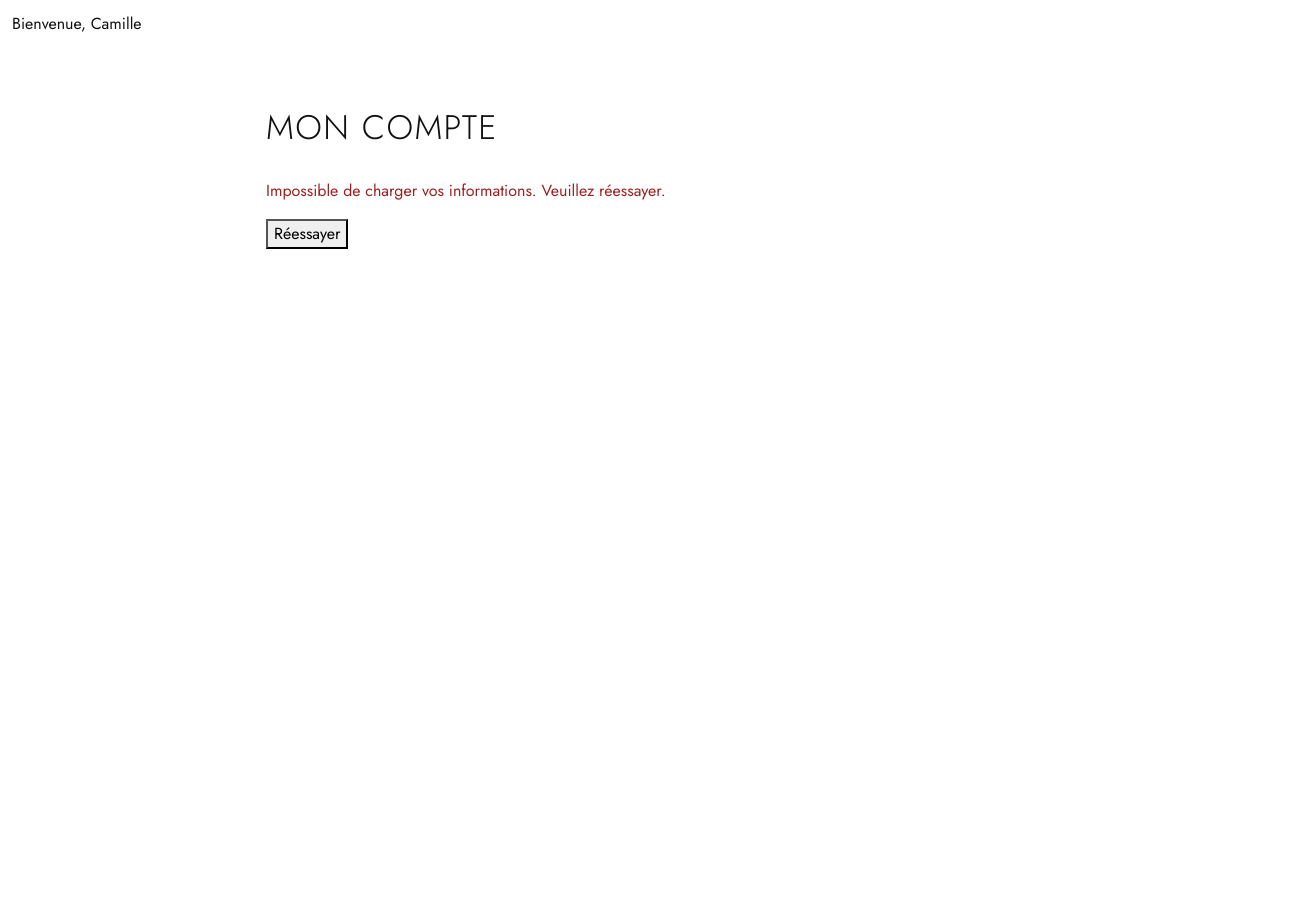
Test: US6 › annonce le chargement et propose de reprendre une lecture échouée
Expected: the message shows "Impossible de charger", [266,179,666,202]
Click the button "Réessayer" at (307, 234), box [266,219,348,249]
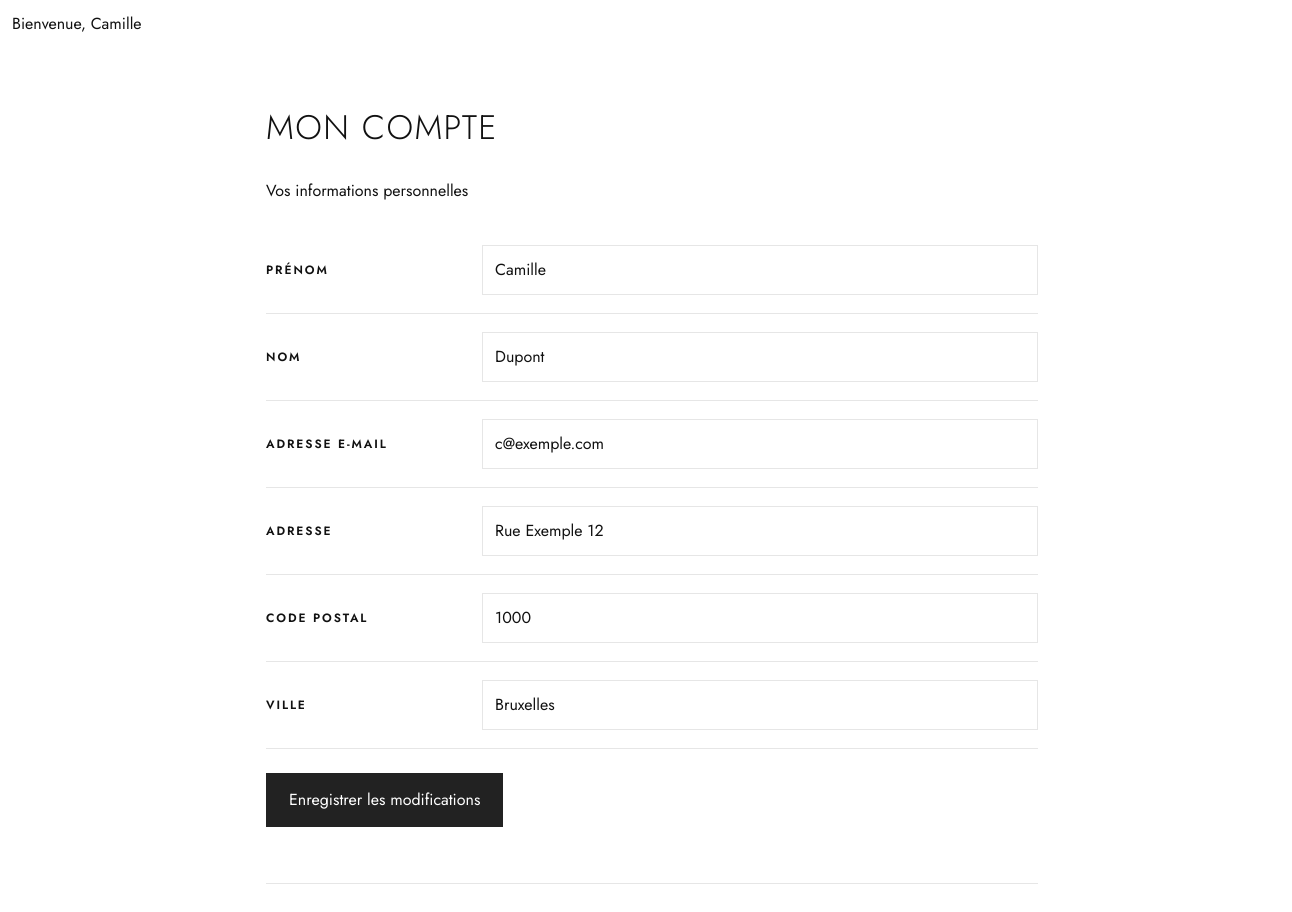
Now the field showing "Bruxelles" is shown, box [482,680,1038,730]
